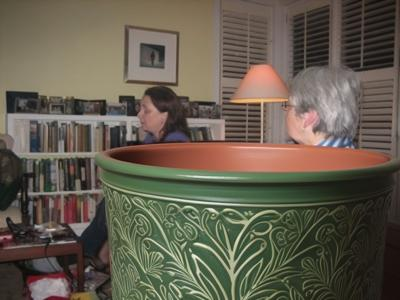person: (152, 66, 362, 300), (82, 85, 204, 294)
pottedplant: (95, 140, 400, 300)
